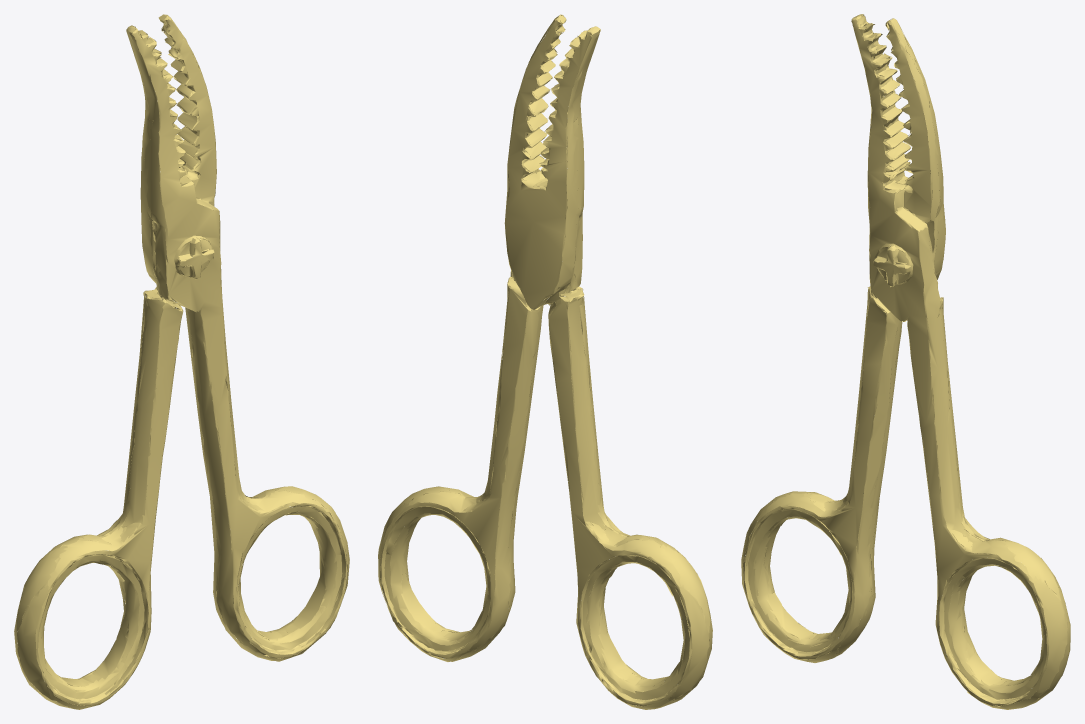
The model's file is equip_ent_hartmann_ear_force.glb.
The picture shows the model from 3 angles, left to right: view 1: azimuth 30°, elevation 25°; view 2: azimuth 150°, elevation 25°; view 3: azimuth 330°, elevation 25°; orthographic projection.
Visible parts, largest first — view 1: world; view 2: world; view 3: world.
Part boxes in pixels (x1,y1,x2,y2): world: [14, 14, 349, 709]; world: [378, 14, 712, 709]; world: [741, 14, 1070, 709].
Bounding box in the file's own units: 0.0923 × 0.1802 × 0.0141.
